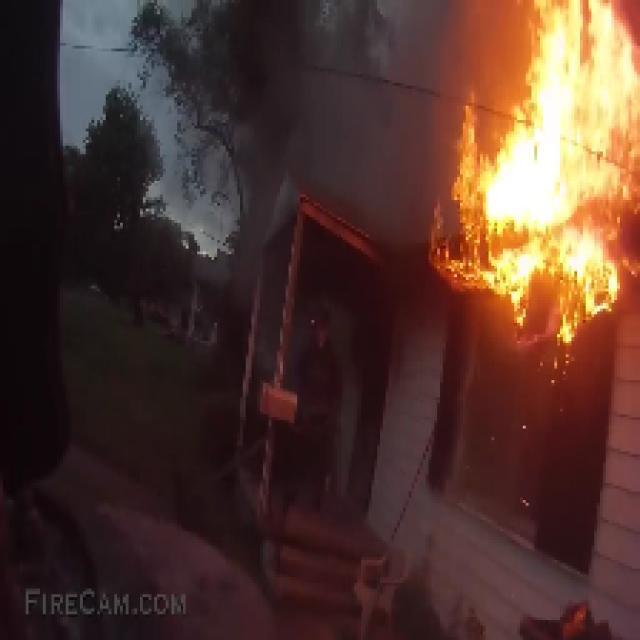Fire: (423, 2, 640, 348)
Smoke: (188, 6, 454, 298)
